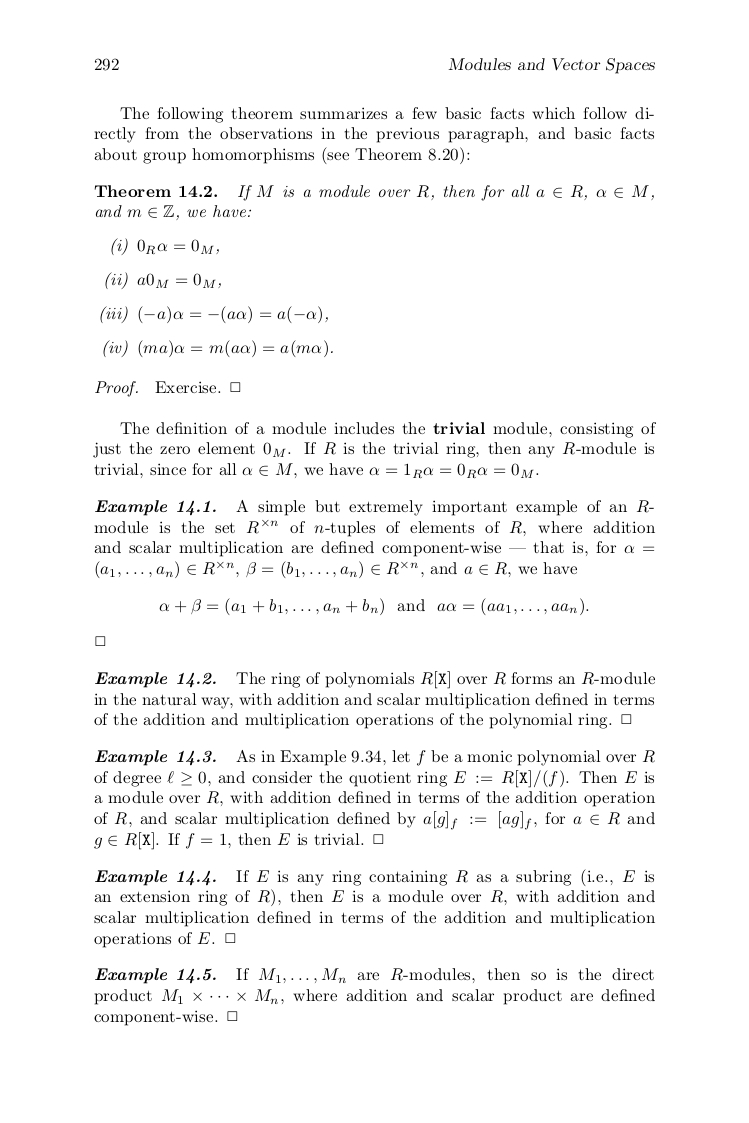formula: (159, 597, 588, 616), (103, 339, 332, 358), (100, 305, 327, 324), (105, 271, 220, 290), (111, 237, 218, 256)
